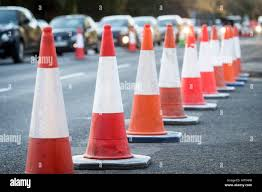car: (1, 6, 43, 64), (46, 14, 100, 53), (97, 15, 141, 49), (132, 16, 161, 45), (157, 14, 183, 43)
cone: (71, 24, 152, 168), (22, 27, 77, 175), (120, 25, 184, 143), (159, 26, 200, 125), (180, 26, 217, 112), (198, 25, 227, 99)
